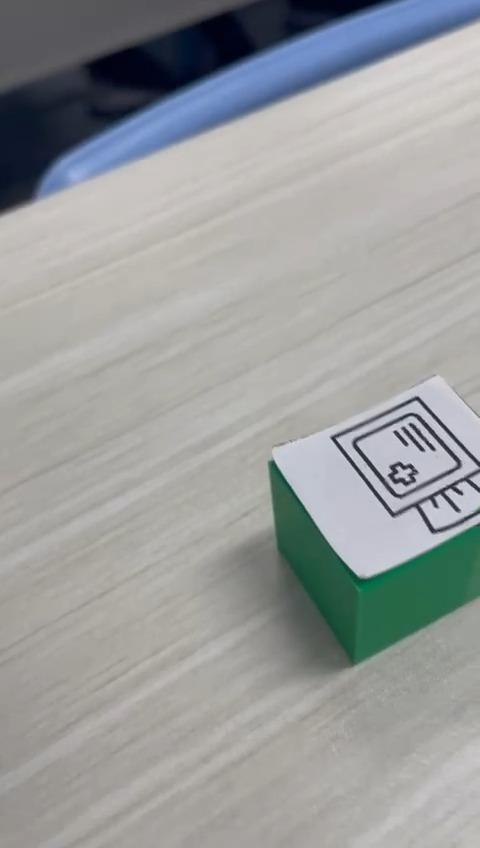Gauze: (267, 372, 479, 665)
